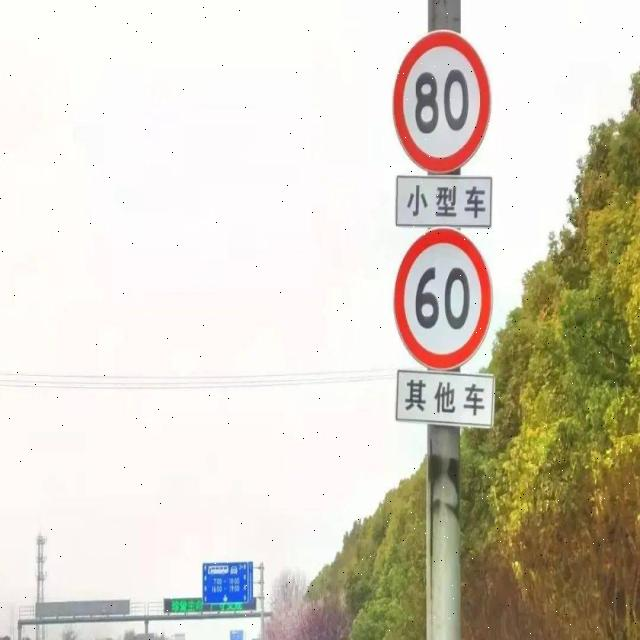speed limit 60: (394, 228, 492, 370)
speed limit 80: (392, 30, 492, 174)
